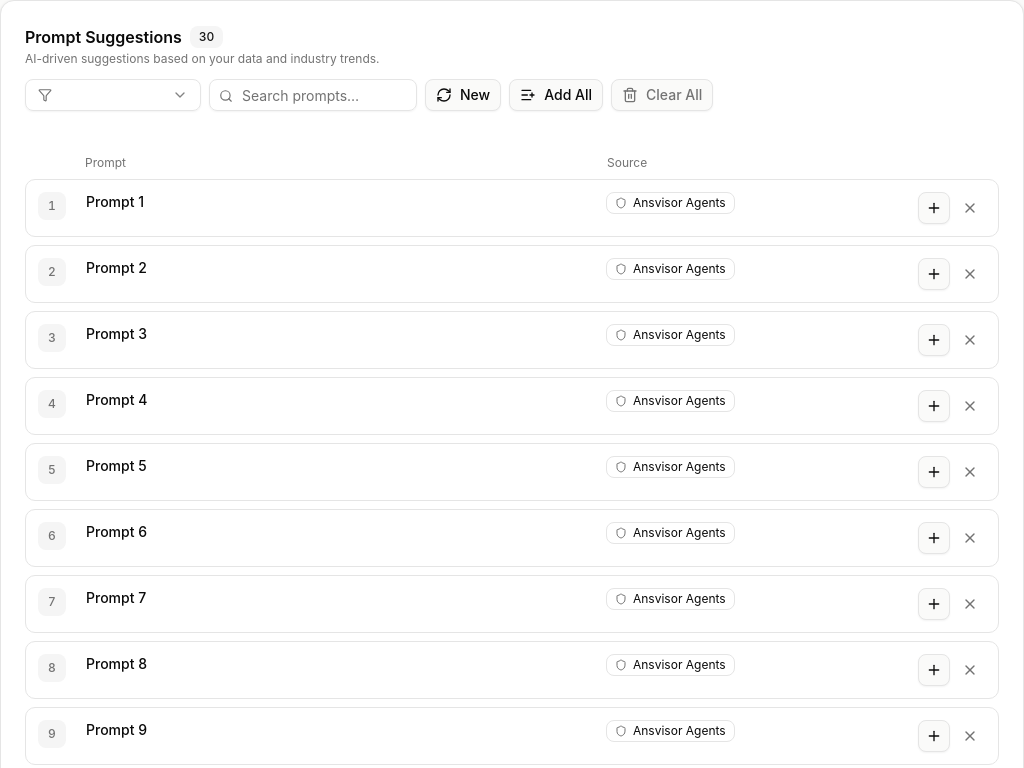
Test: SuggestionsCard — Add All › stops after the batch that reached the limit
Click the button "Add All" at (556, 95), box x1=509 y1=79 x2=603 y2=111
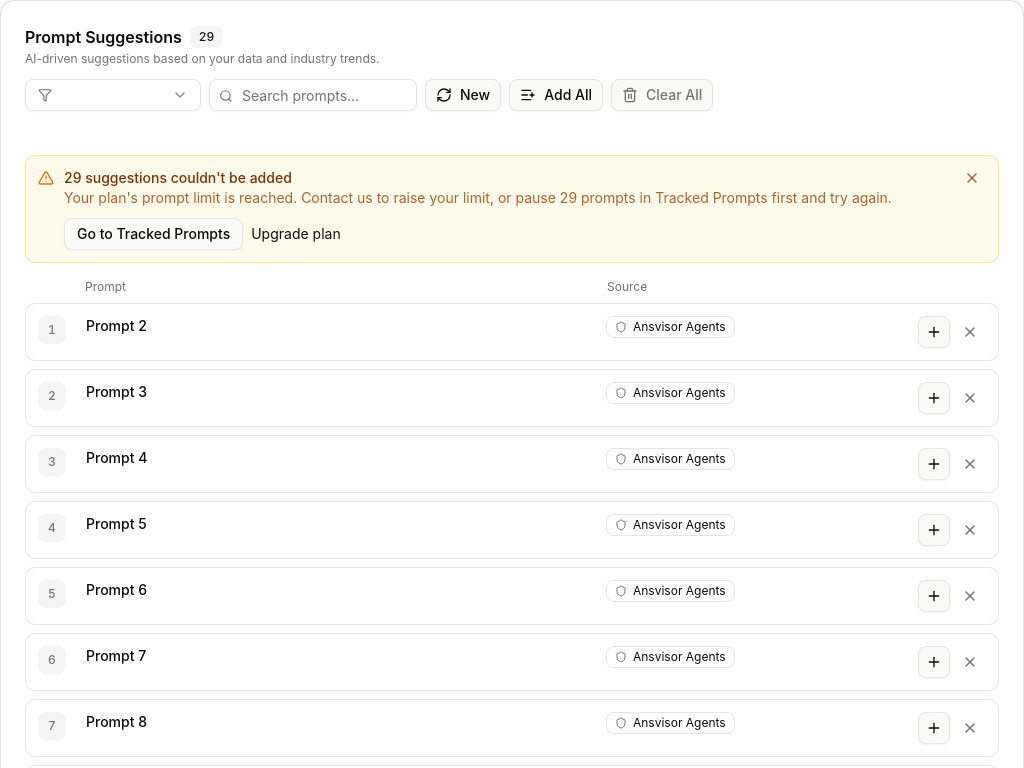
expect the number of list items is 29: met
expect the message shows "29 suggestions couldn't be added": met, box x1=64 y1=169 x2=292 y2=186
expect the message shows "Your plan's prompt limit is reached. Contact us to raise your limit, or pause 29 prompts": met, box x1=64 y1=189 x2=892 y2=206
Click the button named "Close" at (972, 178), box x1=958 y1=164 x2=986 y2=192
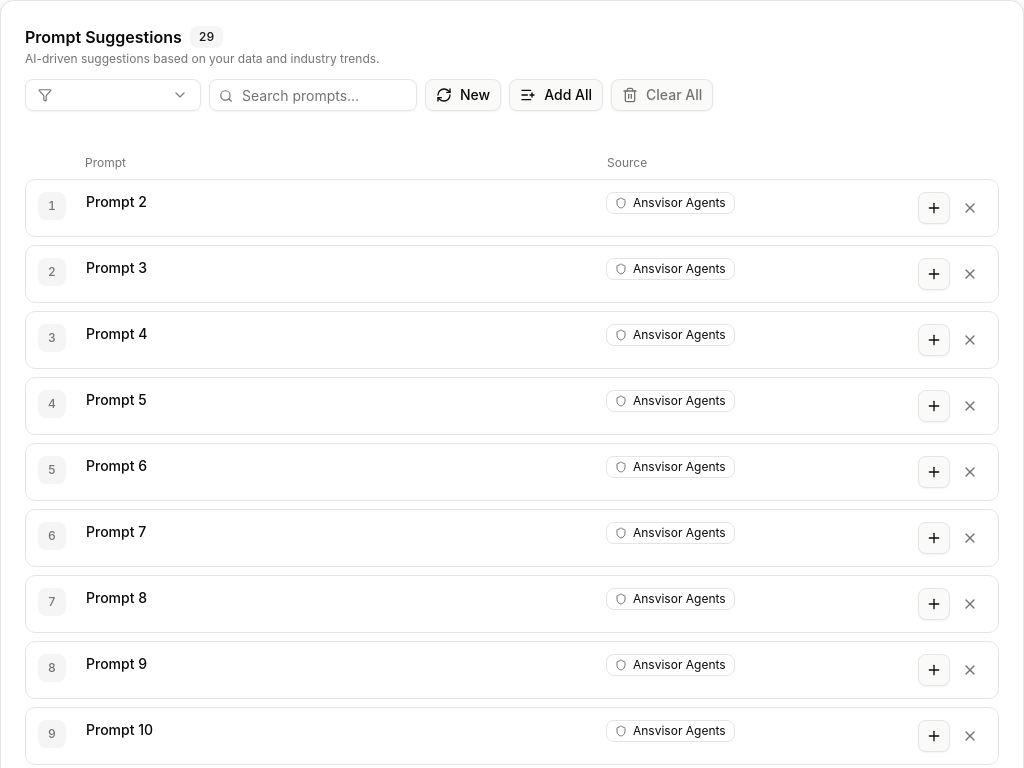
expect the message is gone: met
